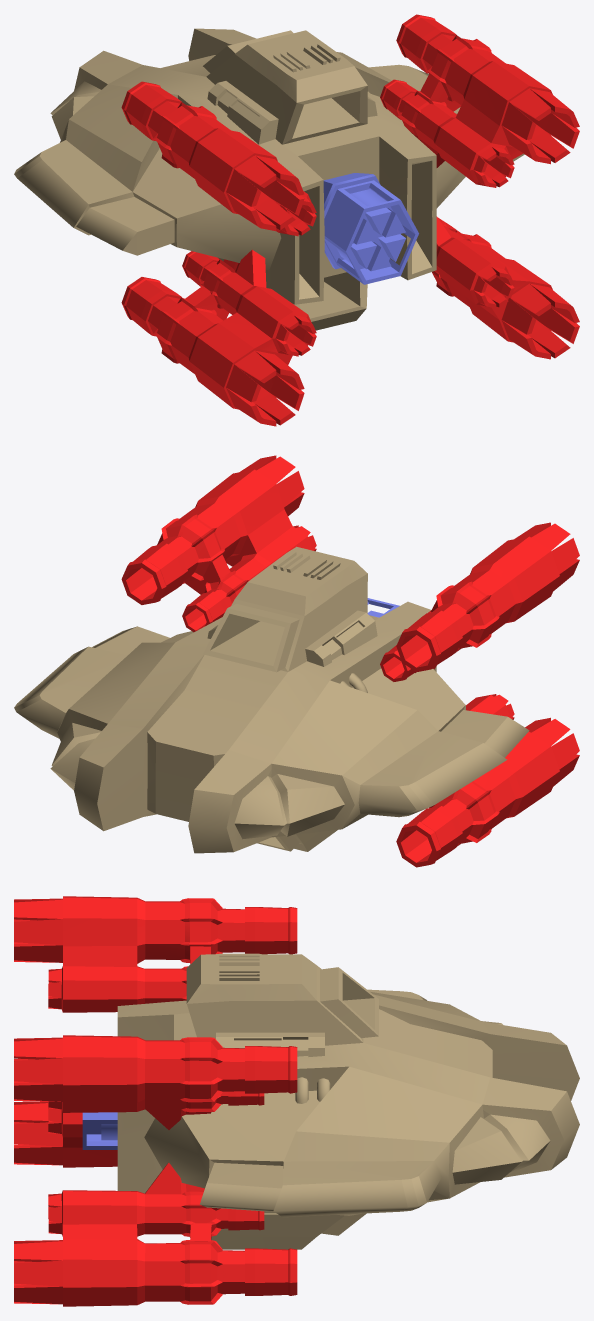
Rendered from hayabusa.FBX.
The picture shows the model from 3 angles, top to bottom: view 1: azimuth 30°, elevation 25°; view 2: azimuth 150°, elevation 25°; view 3: azimuth 270°, elevation 25°; orthographic projection. The views are drawn at different scales.
Parts seen in each view (by area): view 1: Body, Thruster004, Thruster001, Thruster002, Thruster3, Engine; view 2: Body, Thruster001, Thruster002, Thruster004; view 3: Body, Thruster3, Thruster002, Thruster001, Thruster004, Engine.
Part boxes in pixels (x1,y1,x2,y2): Body: (14,28,524,330); Thruster004: (121,249,316,426); Thruster001: (380,14,579,187); Thruster002: (121,81,316,236); Thruster3: (432,216,579,359); Engine: (323,173,418,284); Body: (14,546,529,853); Thruster001: (121,455,316,632); Thruster002: (380,522,579,681); Thruster004: (396,694,579,867); Body: (117,953,579,1249); Thruster3: (14,1162,297,1306); Thruster002: (14,896,297,1012); Thruster001: (14,1035,297,1129); Thruster004: (14,1101,117,1167); Engine: (82,1112,117,1149).
Size of the model in its own units: 46.9 by 27.01 by 51.09.
